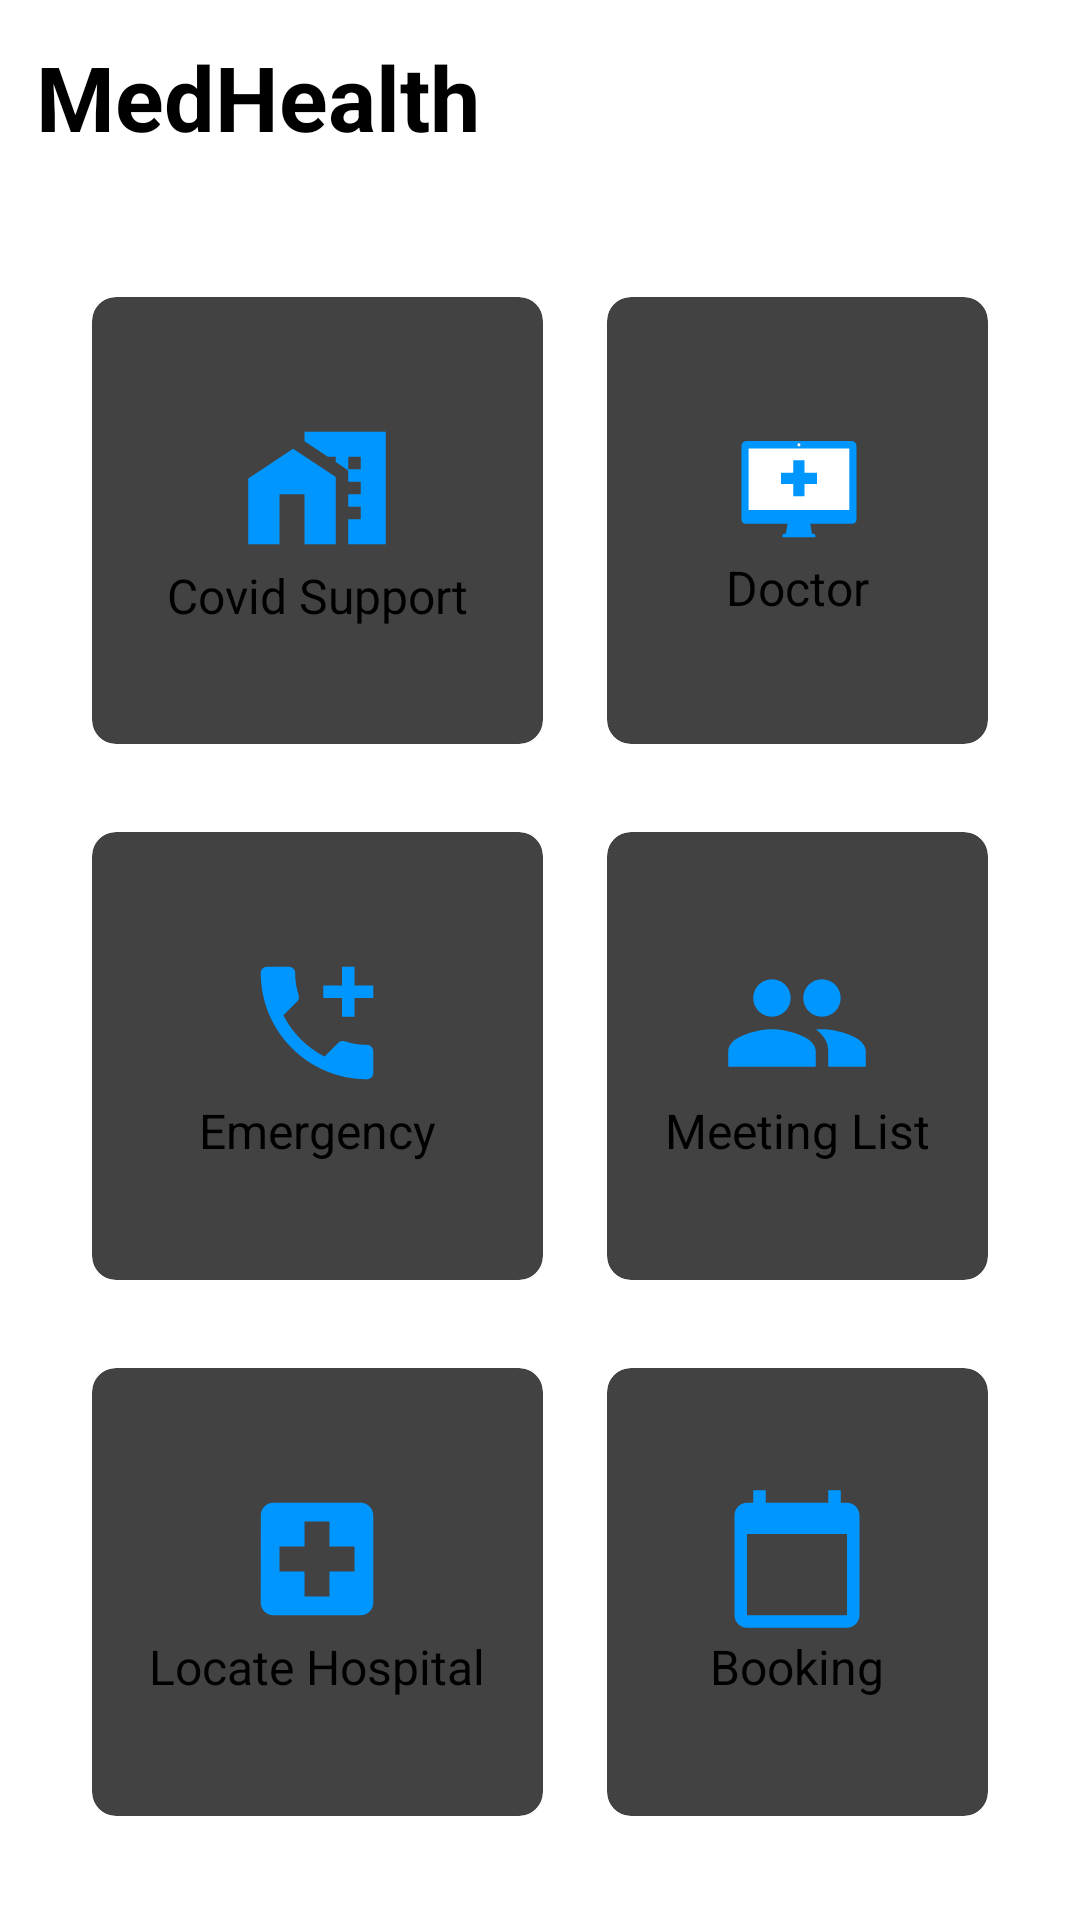

Where to tap for icons on this 1080 × 1920 app screen, as [x,y]:
calendar today: [797,1559]
